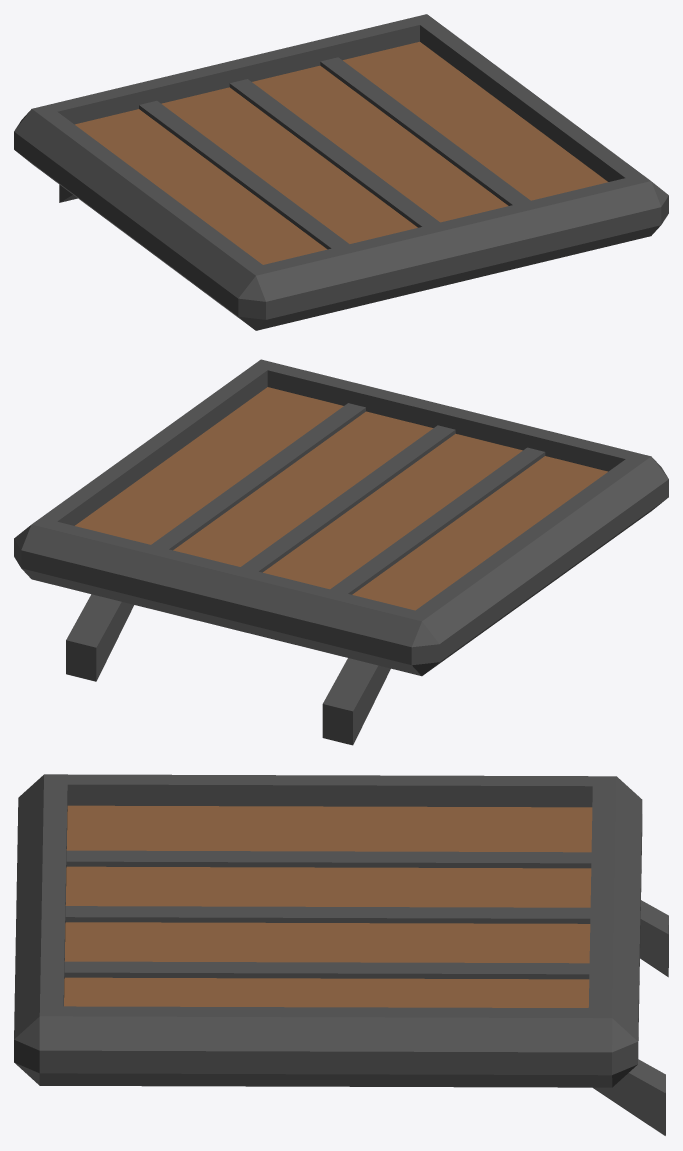
Rendered from elevator.fbx.
3 renders of one model, top to bottom at view 1: azimuth 30°, elevation 25°; view 2: azimuth 150°, elevation 25°; view 3: azimuth 270°, elevation 25°, orthographic. The views are drawn at different scales.
Parts seen in each view (by area): view 1: hissi; view 2: hissi; view 3: hissi.
Boxes of the visible parts, bbox=[...] form: hissi: bbox=[14, 14, 668, 330]; hissi: bbox=[14, 359, 668, 745]; hissi: bbox=[14, 774, 668, 1135].
Size of the model in its own units: 2.67 by 0.7161 by 2.78.
